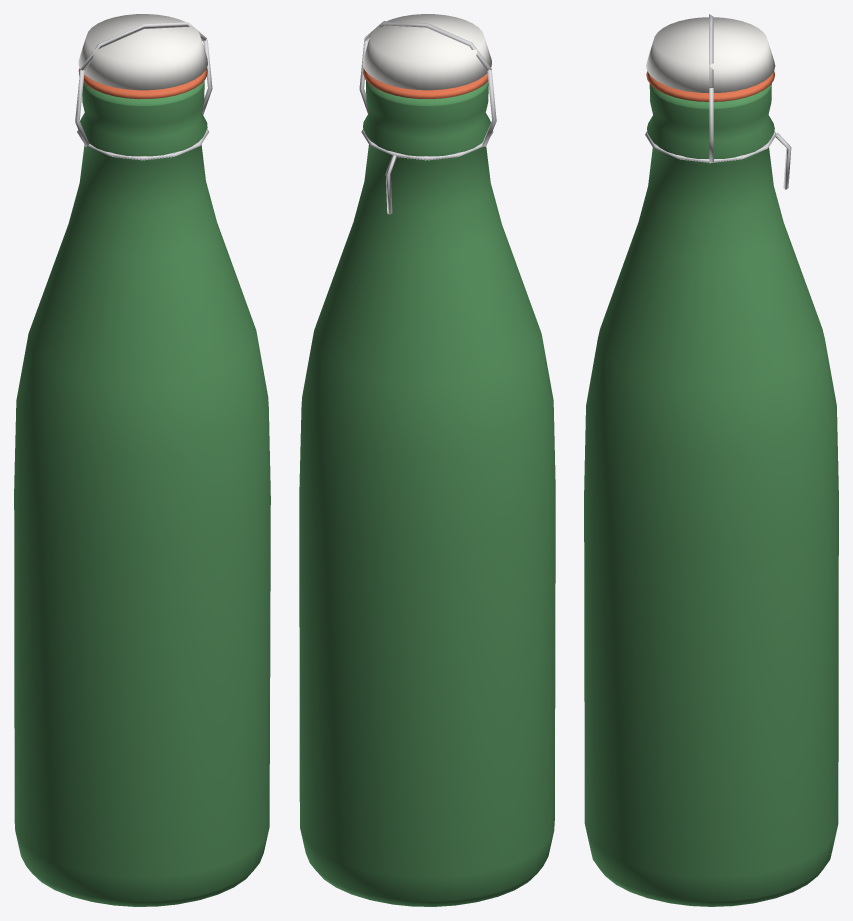
Rendered from bottle_swingtop_lod1.glb.
3 views of the same model, side by side, from view 1: azimuth 30°, elevation 25°; view 2: azimuth 150°, elevation 25°; view 3: azimuth 270°, elevation 25° (orthographic).
Parts seen in each view (by area): view 1: Glass, Cap, Bail; view 2: Glass, Cap, Bail; view 3: Glass, Cap, Bail.
Boxes of the visible parts, x1,y1,x2,y2 form: Glass: [14, 80, 270, 906]; Cap: [78, 14, 207, 99]; Bail: [75, 22, 212, 160]; Glass: [299, 80, 555, 906]; Cap: [362, 14, 491, 98]; Bail: [359, 21, 496, 214]; Glass: [584, 83, 838, 906]; Cap: [646, 17, 775, 101]; Bail: [645, 14, 791, 189].
Size of the model in its own units: 0.0689 by 0.2473 by 0.0684.
